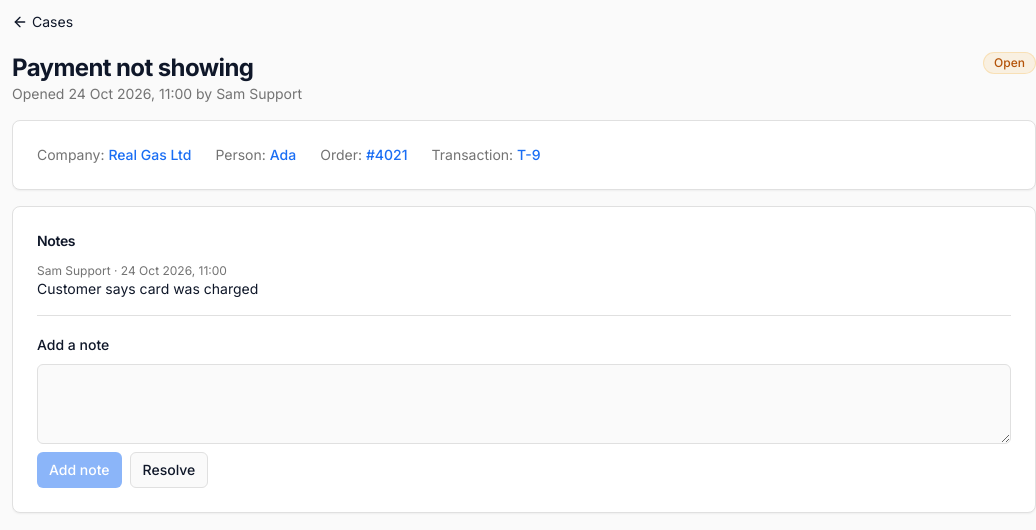
case page › resolves with the typed text as the resolution note; a resolved case offers Reopen instead
Type "typo in the reference" into the text box labelled "Add a note" at (524, 404), box left=37, top=364, right=1011, bottom=444
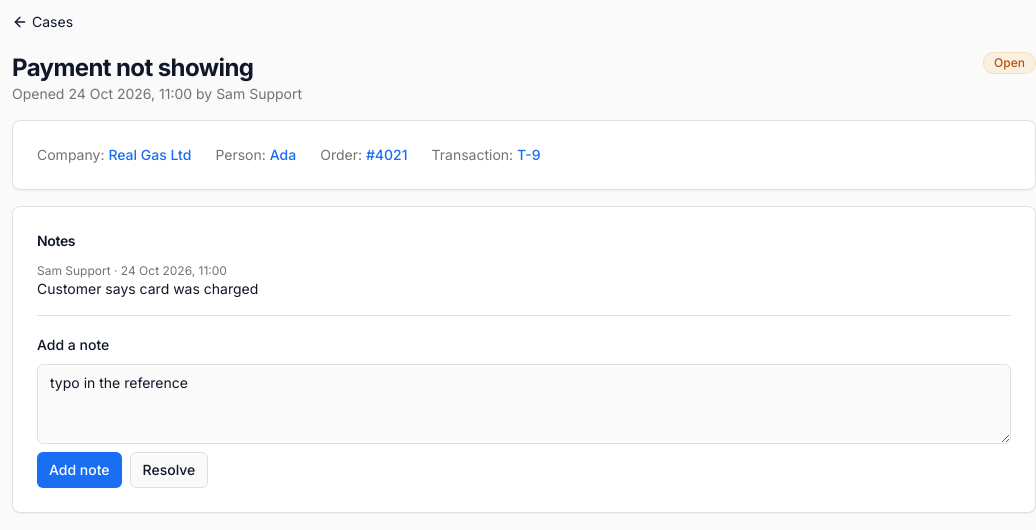
Click the button "Resolve" at (169, 470), box left=130, top=452, right=208, bottom=488
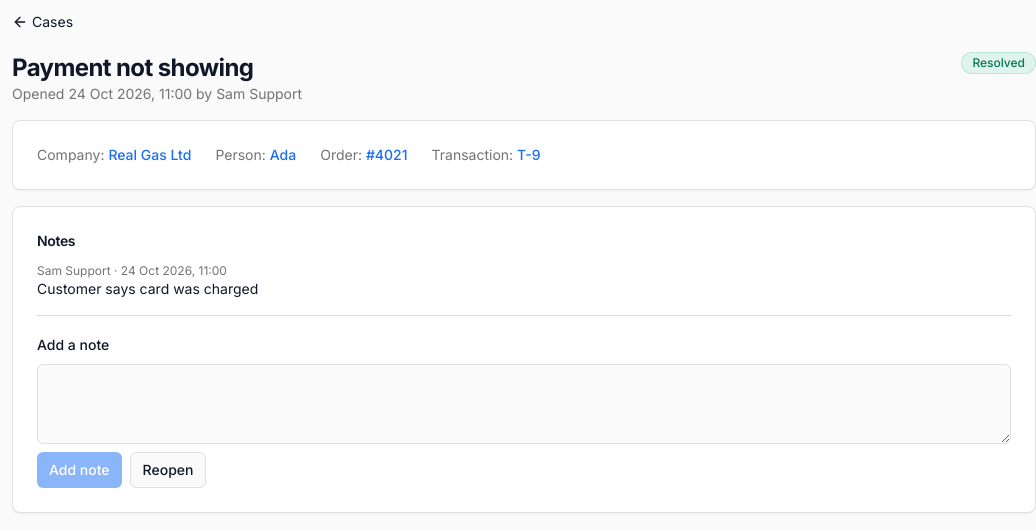
Expected: the button "Reopen" is shown, left=130, top=452, right=206, bottom=488
